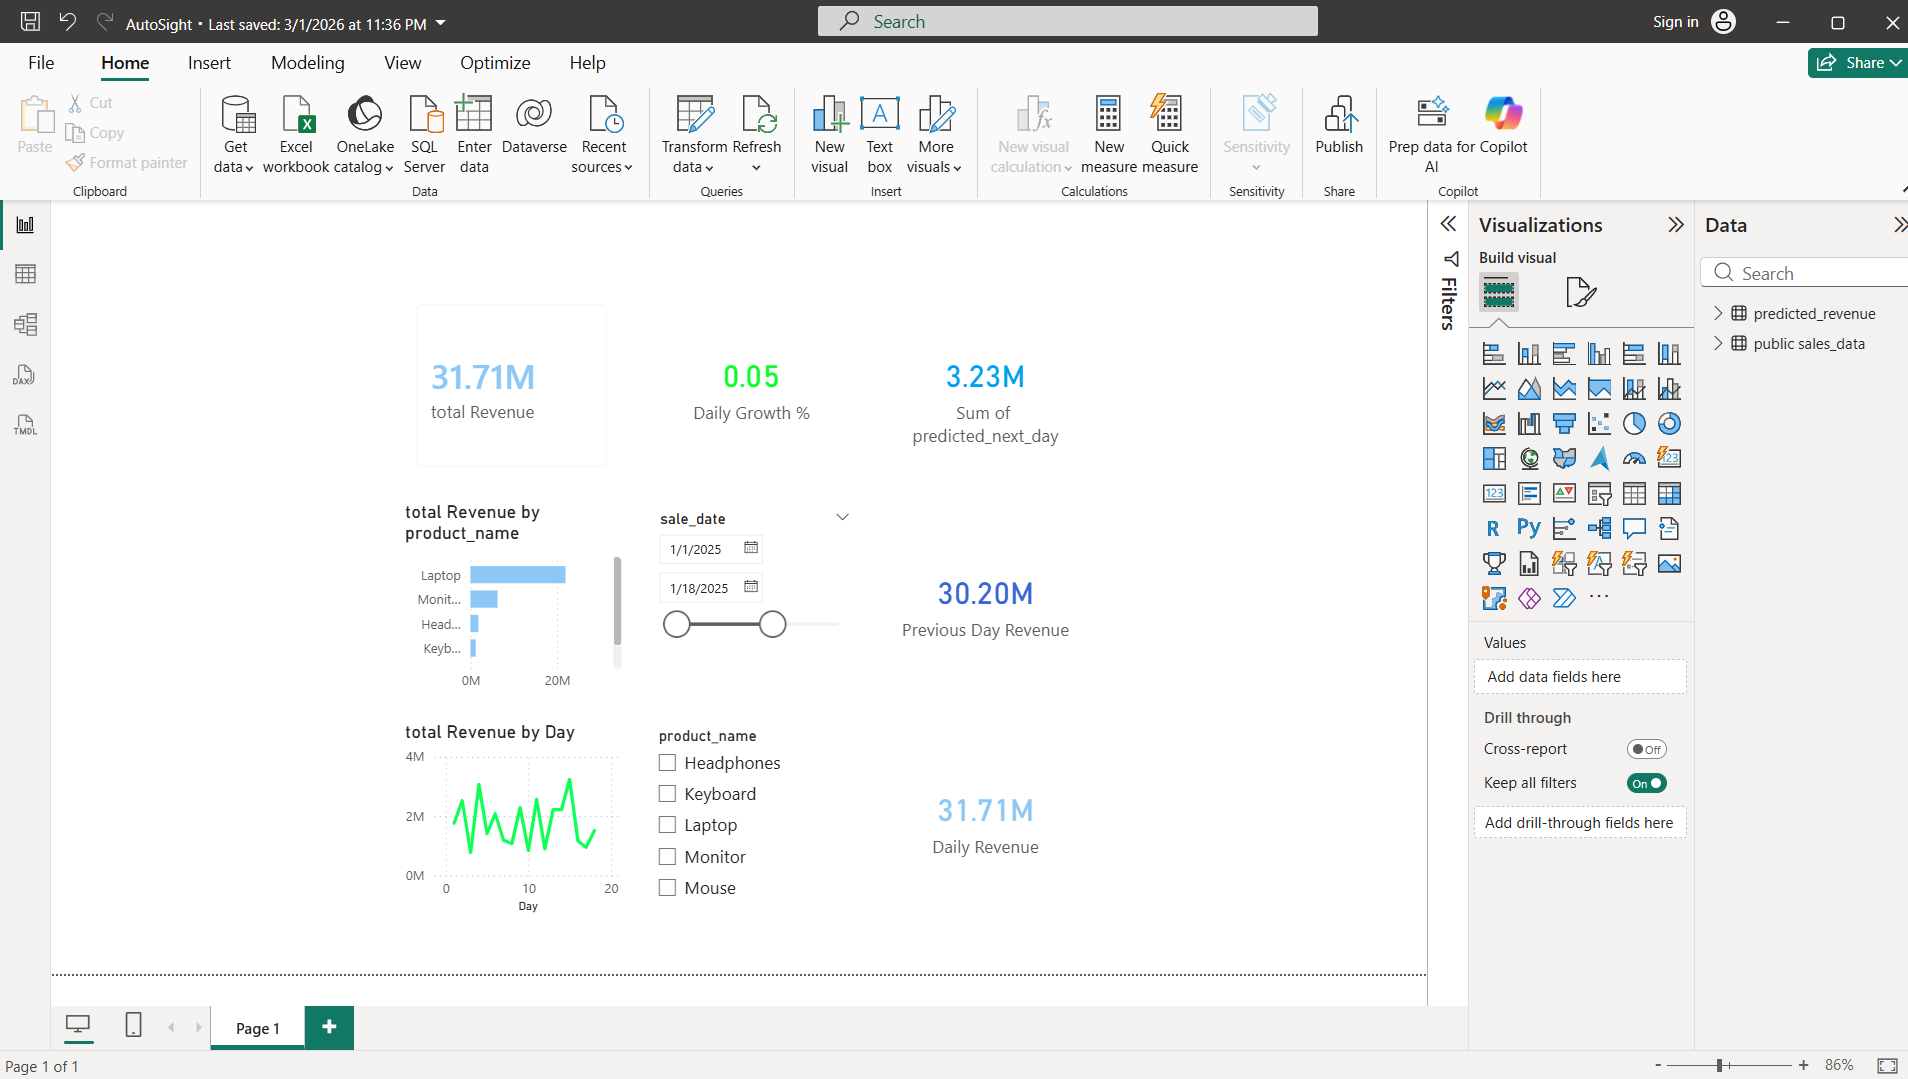

The dashboard page shown, as its layout file describes it:
{"tool":"powerbi","page":{"name":"Page 1","canvas":[1280,720],"ordinal":0},"visuals":[{"type":"cardVisual","title":"Total Revenue","fields":{"Data":["public sales_data.total Revenue"]},"box":[323.3,80,211.7,185],"z":0},{"type":"clusteredBarChart","fields":{"Category":["public sales_data.product_name"],"Y":["public sales_data.total Revenue"]},"box":[324,280.3,211.7,185],"z":1000},{"type":"lineChart","fields":{"Category":["public sales_data.sale_date.Variation.Date Hierarchy.Day"],"Y":["public sales_data.total Revenue"]},"box":[324,485.3,211.7,183.3],"z":2000},{"type":"slicer","fields":{"Values":["public sales_data.product_name"]},"box":[552.3,485.3,201.7,183.3],"z":3000},{"type":"card","fields":{"Values":["public sales_data.Daily Growth %"]},"box":[551.7,80,201.7,185],"z":4000},{"type":"card","fields":{"Values":["public sales_data.Previous Day Revenue"]},"box":[772.3,282,195,185],"z":5000},{"type":"card","fields":{"Values":["public sales_data.Daily Revenue"]},"box":[772.3,485.3,195,183.3],"z":6000},{"type":"slicer","fields":{"Values":["public sales_data.sale_date"]},"box":[554,282,201.7,185],"z":7000},{"type":"card","fields":{"Values":["Sum(predicted_revenue.predicted_next_day)"]},"box":[771.7,80,195,185],"z":8000}]}

Visuals, with their boxes on the page's 1280x720 design canvas (x1, y1, x2, y2). These are canvas units, not pixel positions in the 1908x1079 screenshot, which may show the page scaled, cropped or inside an application window:
"Total Revenue" cardVisual: region(323, 80, 535, 265)
clusteredBarChart - public sales_data.product_name x public sales_data.total Revenue: region(324, 280, 536, 465)
lineChart - public sales_data.sale_date.Variation.Date Hierarchy.Day x public sales_data.total Revenue: region(324, 485, 536, 669)
slicer - public sales_data.product_name: region(552, 485, 754, 669)
card - public sales_data.Daily Growth %: region(552, 80, 753, 265)
card - public sales_data.Previous Day Revenue: region(772, 282, 967, 467)
card - public sales_data.Daily Revenue: region(772, 485, 967, 669)
slicer - public sales_data.sale_date: region(554, 282, 756, 467)
card - Sum(predicted_revenue.predicted_next_day): region(772, 80, 967, 265)
